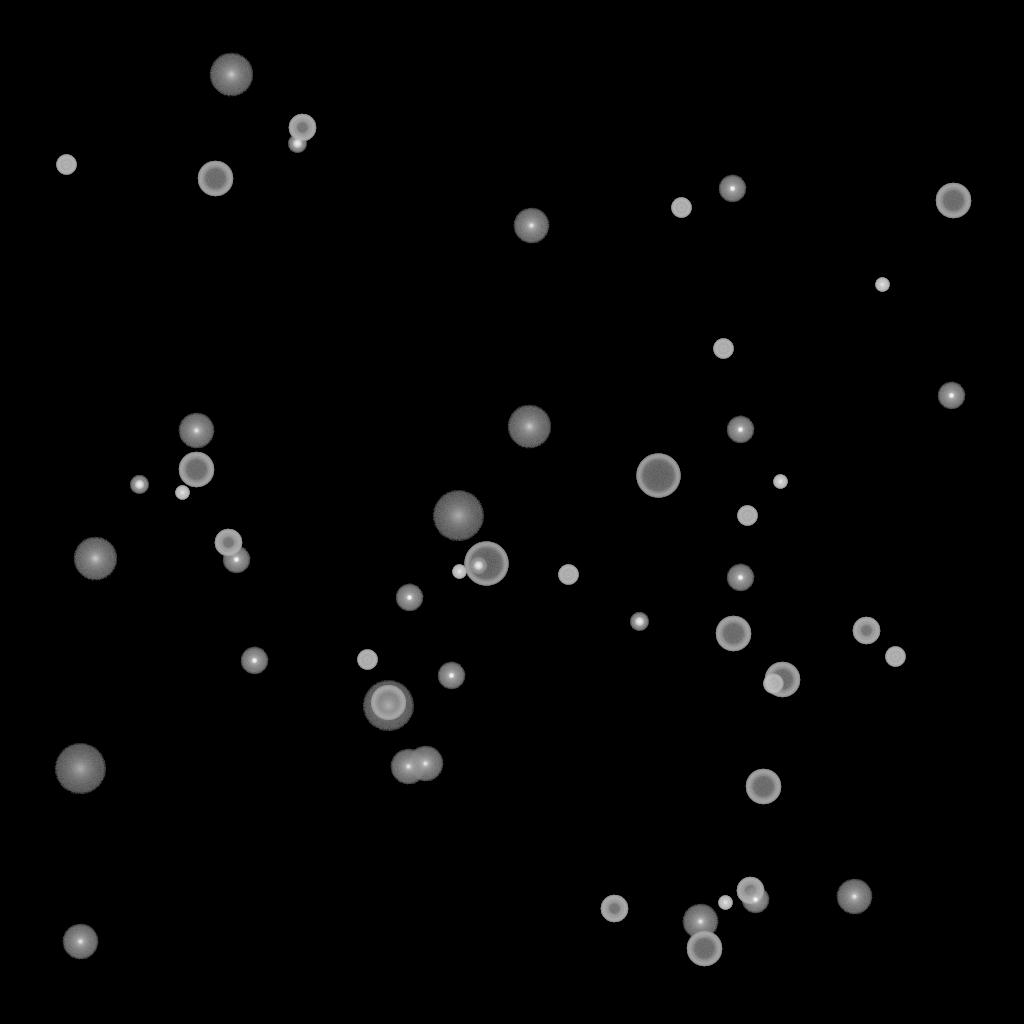depth:-10: (240, 647, 268, 675), (222, 546, 250, 574), (726, 564, 754, 592), (937, 382, 965, 410), (718, 175, 746, 203), (395, 584, 423, 612), (437, 662, 465, 690), (741, 886, 769, 914), (726, 416, 754, 444)
depth:-20: (630, 613, 648, 631), (288, 135, 306, 153), (469, 557, 487, 575), (130, 476, 148, 494)
depth:-30: (718, 896, 732, 910), (875, 278, 889, 292), (452, 565, 466, 579), (175, 486, 189, 500), (773, 475, 787, 489)
depth:-40: (737, 506, 757, 526), (763, 674, 783, 694), (671, 198, 691, 218), (558, 565, 578, 585), (885, 647, 905, 667), (56, 155, 76, 175), (713, 339, 733, 359), (357, 650, 377, 670)
depth:-50: (214, 529, 242, 557), (736, 877, 764, 905), (852, 617, 880, 645), (600, 895, 628, 923), (288, 114, 316, 142)
depth:-60: (370, 685, 406, 721), (686, 931, 722, 967), (745, 769, 781, 805), (197, 161, 233, 197), (935, 183, 971, 219), (178, 452, 214, 488), (764, 662, 800, 698), (715, 616, 751, 652)
depth:-70: (636, 454, 680, 498), (464, 542, 508, 586)
depth:0: (513, 208, 549, 244), (836, 879, 872, 915), (407, 746, 443, 782), (682, 904, 718, 940), (390, 749, 426, 785), (62, 924, 98, 960), (178, 413, 214, 449)
depth:10: (73, 537, 117, 581), (209, 53, 253, 97), (507, 405, 551, 449)
depth:20: (54, 744, 106, 794), (432, 491, 484, 541), (362, 681, 414, 731)
